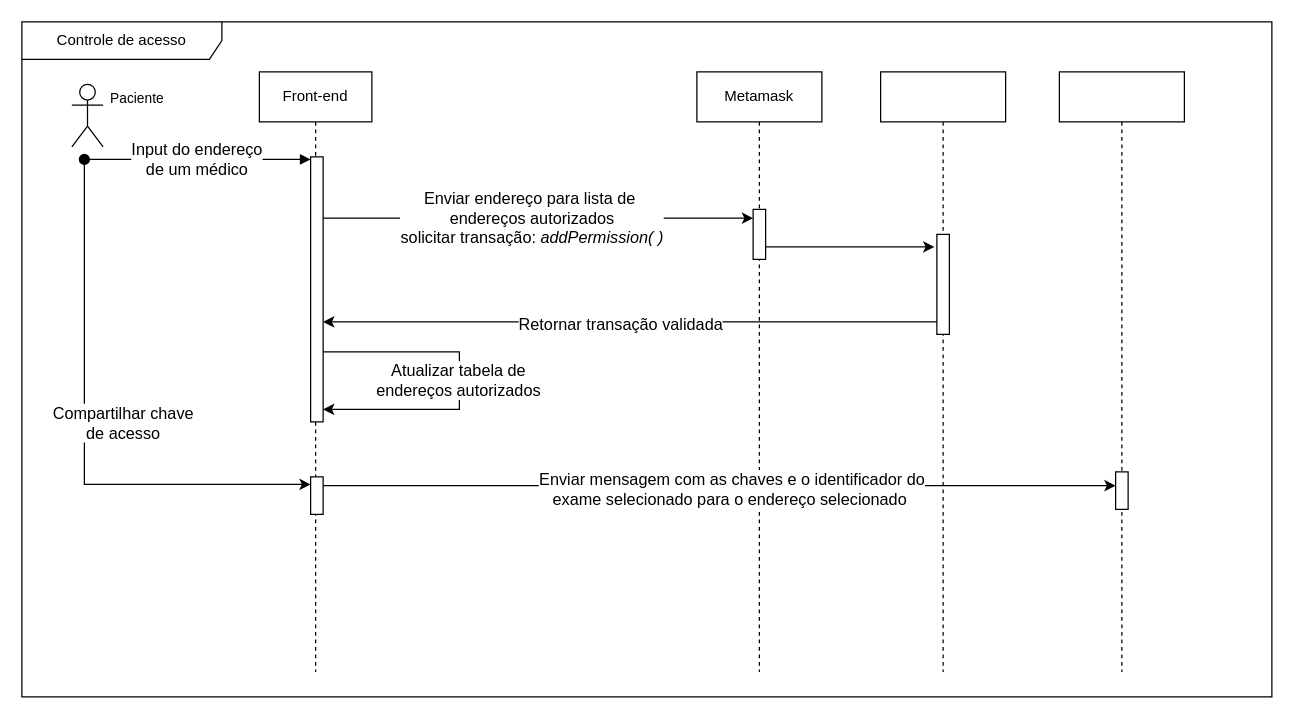
Some shapes in this 1294 by 719 pixel diagram are drawn without their labels. The shapes that lost their labels are listed below. From the top down, each one's box as (x1, y1, x2, y2) in pixels, then its label:
(879, 71, 1006, 672): Ethereum blockchain
(1058, 71, 1184, 672): XMTP
